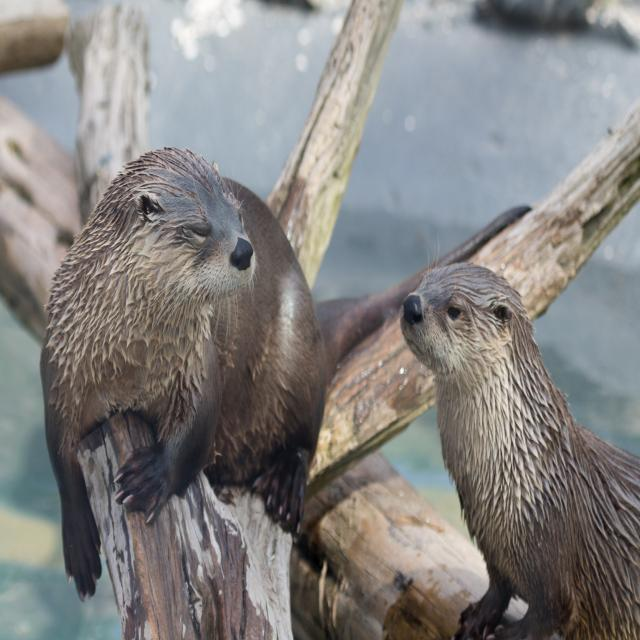otter: (44, 152, 323, 528), (403, 267, 640, 640)
